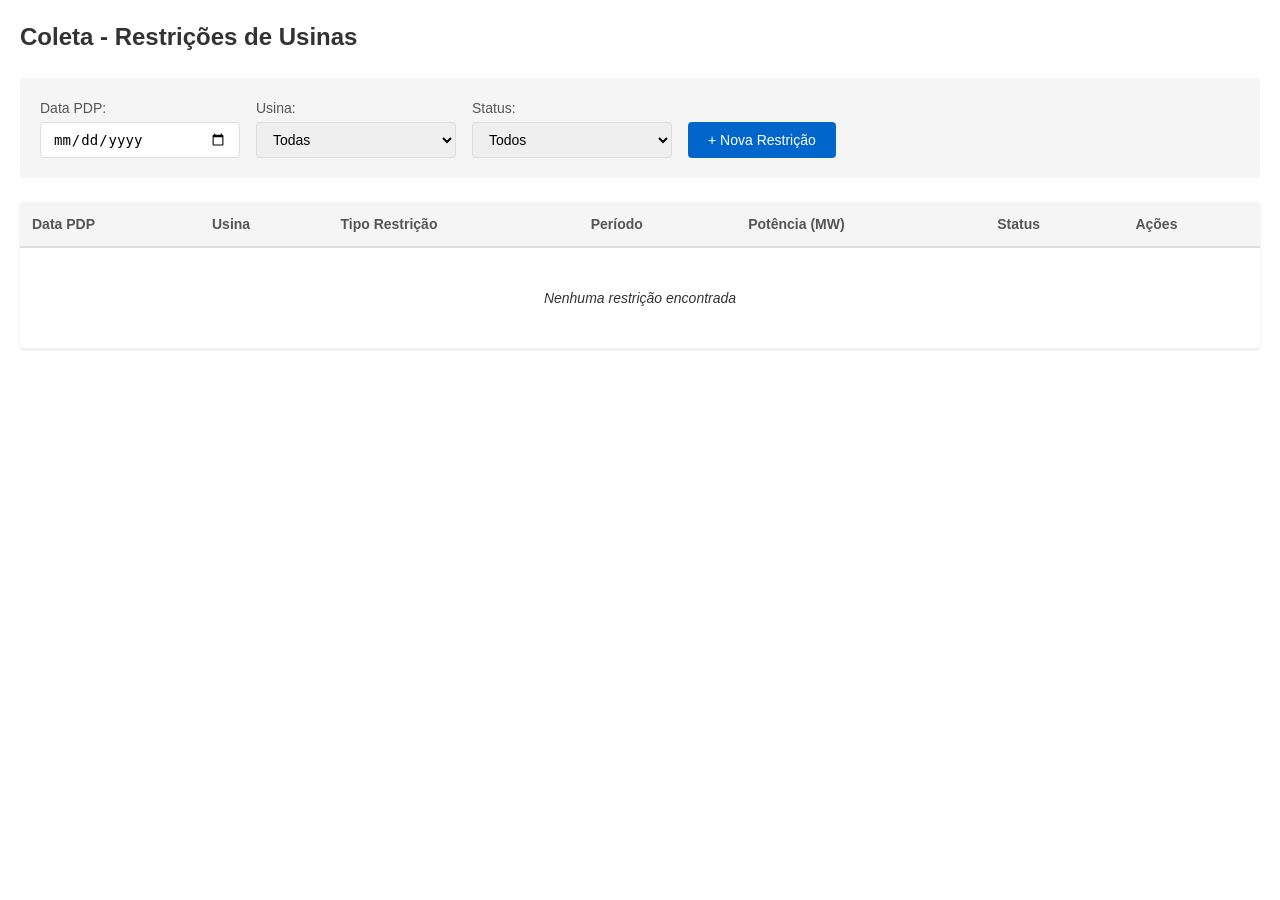
Test: PlantRestriction Component › Diálogo de Criação/Edição › deve abrir diálogo ao clicar em Nova Restrição
The image size is (1280, 900).
What coordinates should you click on to do the following:
click the button with test id "btn-nova-restricao"
I would click on:
 (762, 140)
Its box is [688,122,836,158].
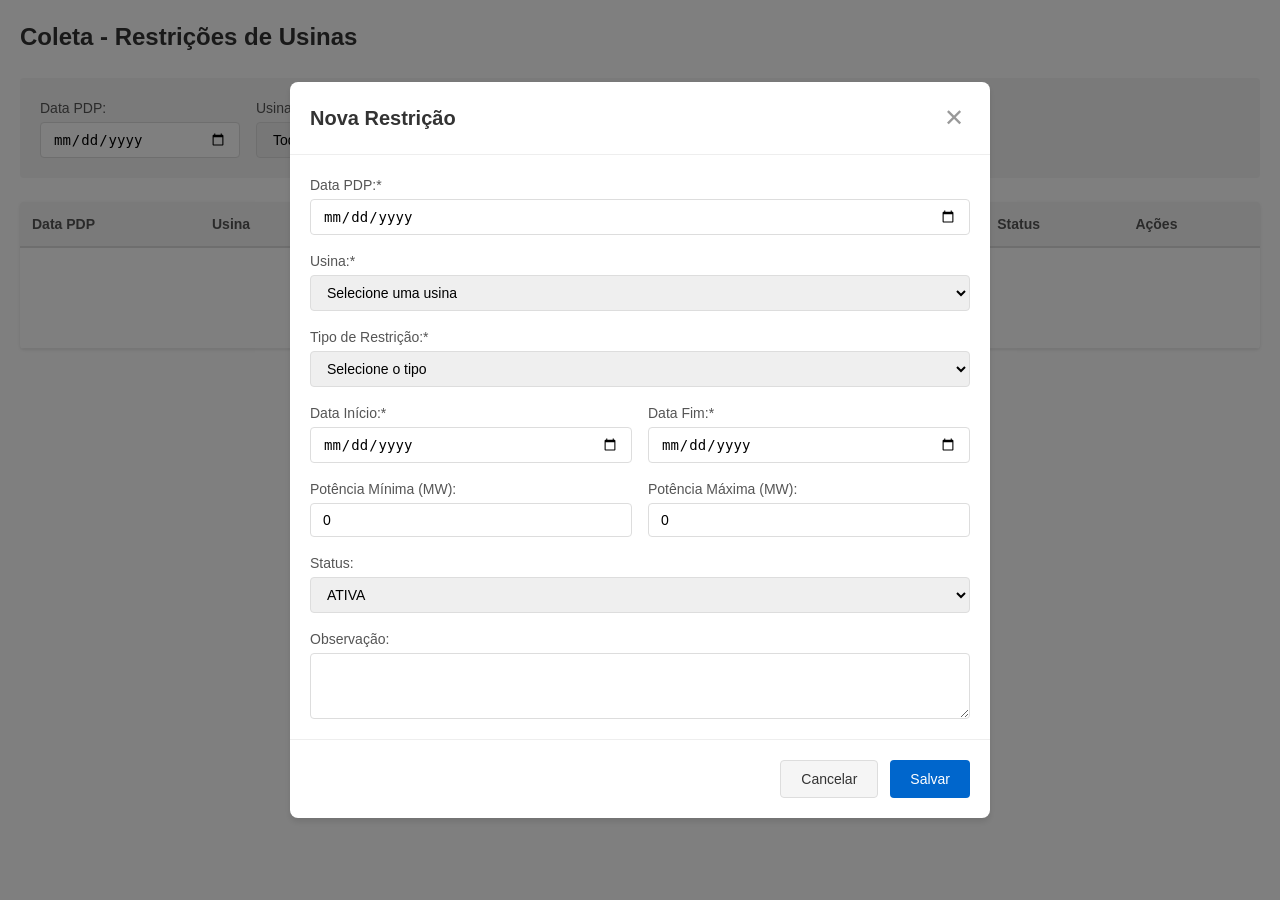
Expected: the element with test id "dialog-form" is shown
Expected: the heading "Nova Restrição" is shown, [310,104,456,132]
